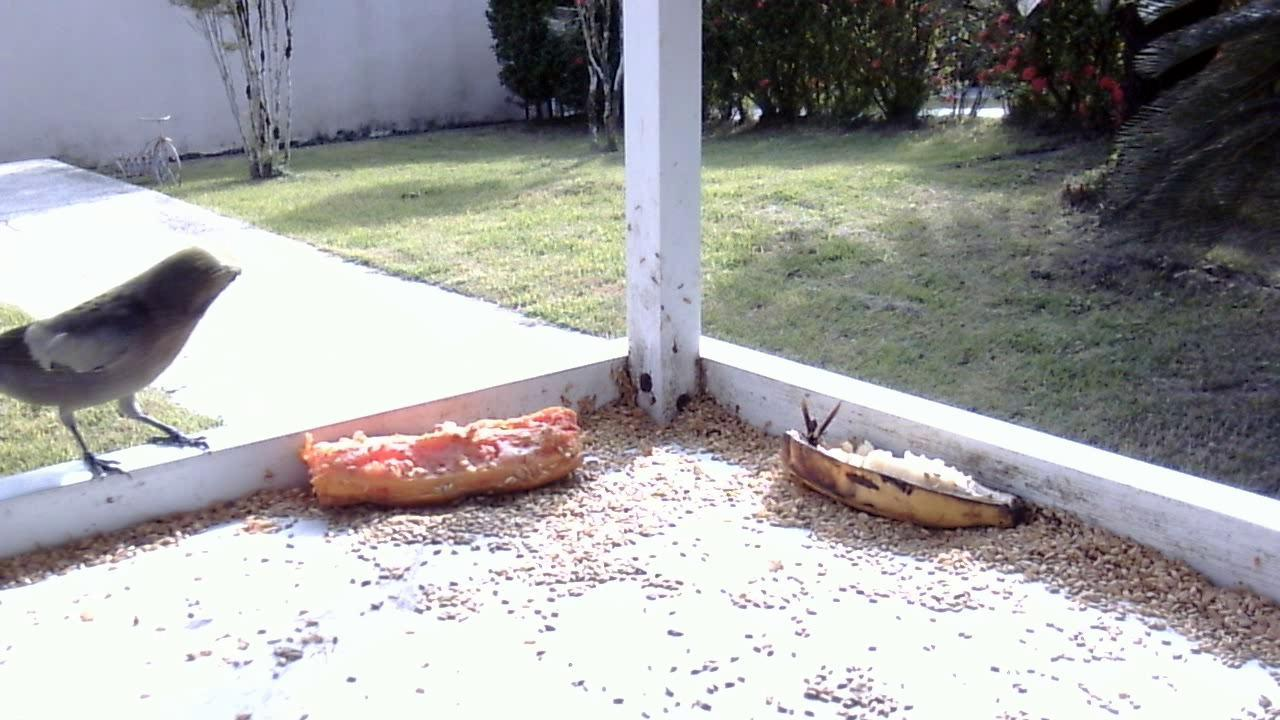sanhaco_do_coqueiro: (3, 237, 258, 501)
